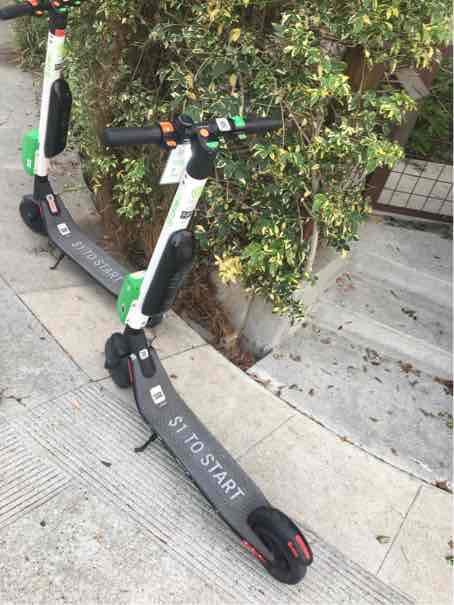scooter: (95, 110, 342, 593)
